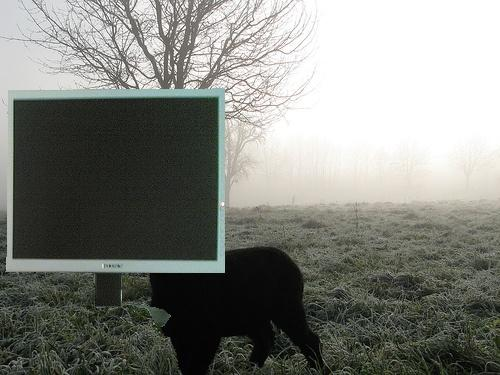tampered: (6, 89, 225, 327)
